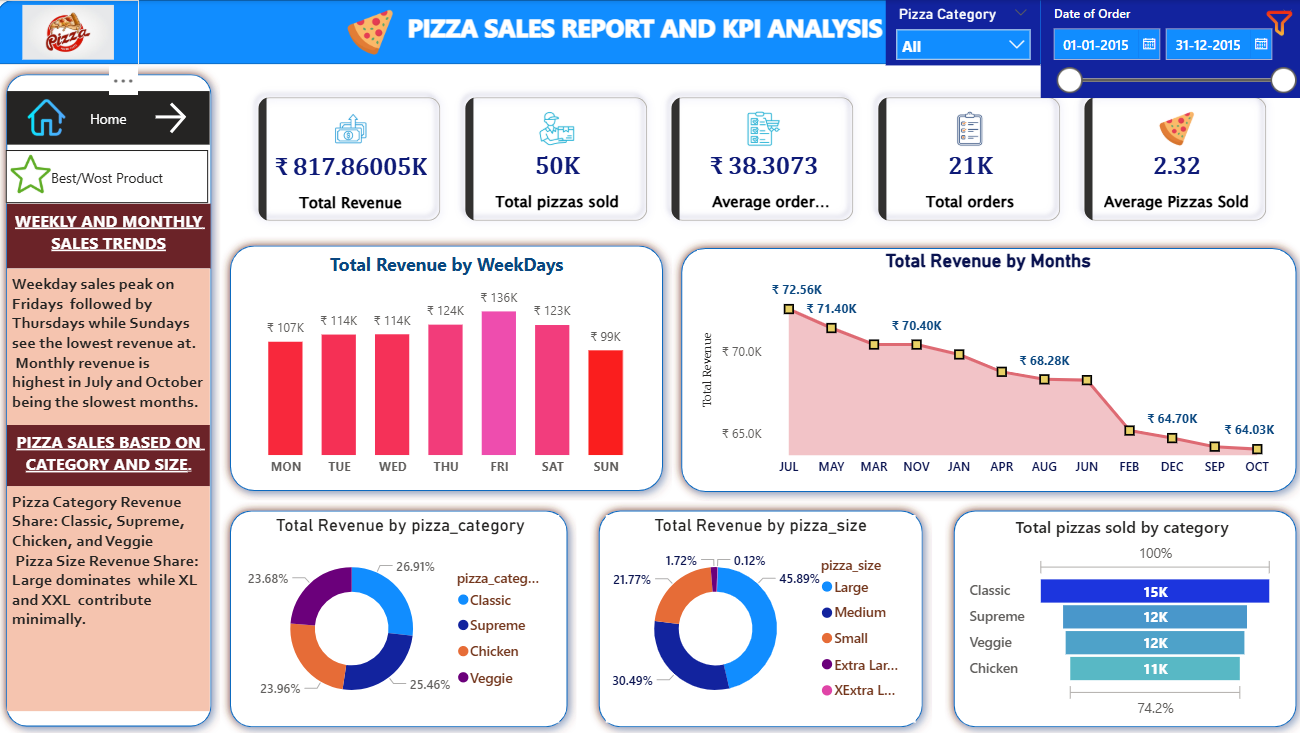

This screenshot's page, from the dashboard's own definition file:
{"tool":"powerbi","page":{"name":"Home","canvas":[1280,720],"ordinal":0},"visuals":[{"type":"cardVisual","fields":{"Data":["pizzadb pizza_sales.Total Revenue","pizzadb pizza_sales.Total pizzas sold","pizzadb pizza_sales.Average order amount","pizzadb pizza_sales.Total orders","pizzadb pizza_sales.Average Pizzas Sold"]},"box":[218.8,78.8,1061.2,155],"z":0},{"type":"shape","box":[0,0,1280,62.9],"z":1000},{"type":"shape","box":[218.3,231.7,441.7,258.3],"z":2000},{"type":"columnChart","title":"Total Revenue by WeekDays","fields":{"Y":["pizzadb pizza_sales.Total Revenue"],"Category":["pizzadb pizza_sales.Day order"]},"box":[240,246.7,400,228.3],"z":3000},{"type":"shape","box":[660,233.3,620,256.7],"z":4000},{"type":"areaChart","title":"Total Revenue by Months","fields":{"Y":["pizzadb pizza_sales.Total Revenue"],"Category":["pizzadb pizza_sales.Month order"]},"box":[685,245,570,230],"z":5000},{"type":"shape","box":[218.3,490,348.3,230],"z":6000},{"type":"shape","box":[580,490,335,230],"z":7000},{"type":"shape","box":[926.7,490,353.3,230],"z":8000},{"type":"donutChart","fields":{"Category":["pizzadb pizza_sales.pizza_category"],"Y":["pizzadb pizza_sales.Total Revenue"]},"box":[240,503.3,310,203.3],"z":9000},{"type":"donutChart","fields":{"Y":["pizzadb pizza_sales.Total Revenue"],"Category":["pizzadb pizza_sales.pizza_size"]},"box":[595,503.3,303.3,203.3],"z":10000},{"type":"textbox","box":[13.8,6.2,1241.2,70],"z":11000},{"type":"funnel","title":"Total pizzas sold by category","fields":{"Y":["pizzadb pizza_sales.Total pizzas sold"],"Category":["pizzadb pizza_sales.pizza_category"]},"box":[946.7,503.3,308.3,203.3],"z":12000},{"type":"shape","box":[0,63.8,218.8,656.2],"z":13000},{"type":"textbox","box":[9.6,199,199,63.1],"z":14000},{"type":"textbox","box":[10,262.5,198.8,153.8],"z":15000},{"type":"textbox","box":[10,416.2,198.8,60],"z":16000},{"type":"textbox","box":[10,476.2,198.8,220],"z":17000},{"type":"pageNavigator","box":[10,88.8,198.8,52.5],"z":18000},{"type":"pageNavigator","box":[8.8,146.2,198.8,52.5],"z":19000},{"type":"actionButton","box":[148.8,95,100,40],"z":20000},{"type":"slicer","fields":{"Values":["pizzadb pizza_sales.pizza_category"]},"box":[870,0,151.2,63.8],"z":21000},{"type":"slicer","fields":{"Values":["pizzadb pizza_sales.order_date"]},"box":[1021.2,0,258.8,95],"z":22000},{"type":"image","box":[337.5,0,55,62.5],"z":23000},{"type":"image","box":[1228.8,0,51.2,45],"z":24000},{"type":"image","box":[25,91.2,48.8,46.2],"z":25000},{"type":"image","box":[8.8,141.2,48.8,56.2],"z":26000},{"type":"image","box":[0,0,139.4,63.6],"z":26001}]}

Visuals, with their boxes on the page's 1280x720 design canvas (x1, y1, x2, y2). These are canvas units, not pixel positions in the 1300x733 screenshot, which may show the page scaled, cropped or inside an application window:
cardVisual - pizzadb pizza_sales.Total Revenue x pizzadb pizza_sales.Total pizzas sold: [219,79,1280,234]
shape: [0,0,1280,63]
shape: [218,232,660,490]
"Total Revenue by WeekDays" columnChart: [240,247,640,475]
shape: [660,233,1280,490]
"Total Revenue by Months" areaChart: [685,245,1255,475]
shape: [218,490,567,720]
shape: [580,490,915,720]
shape: [927,490,1280,720]
donutChart - pizzadb pizza_sales.pizza_category x pizzadb pizza_sales.Total Revenue: [240,503,550,707]
donutChart - pizzadb pizza_sales.Total Revenue x pizzadb pizza_sales.pizza_size: [595,503,898,707]
textbox: [14,6,1255,76]
"Total pizzas sold by category" funnel: [947,503,1255,707]
shape: [0,64,219,720]
textbox: [10,199,209,262]
textbox: [10,262,209,416]
textbox: [10,416,209,476]
textbox: [10,476,209,696]
pageNavigator: [10,89,209,141]
pageNavigator: [9,146,208,199]
actionButton: [149,95,249,135]
slicer - pizzadb pizza_sales.pizza_category: [870,0,1021,64]
slicer - pizzadb pizza_sales.order_date: [1021,0,1280,95]
image: [338,0,392,62]
image: [1229,0,1280,45]
image: [25,91,74,137]
image: [9,141,58,197]
image: [0,0,139,64]
